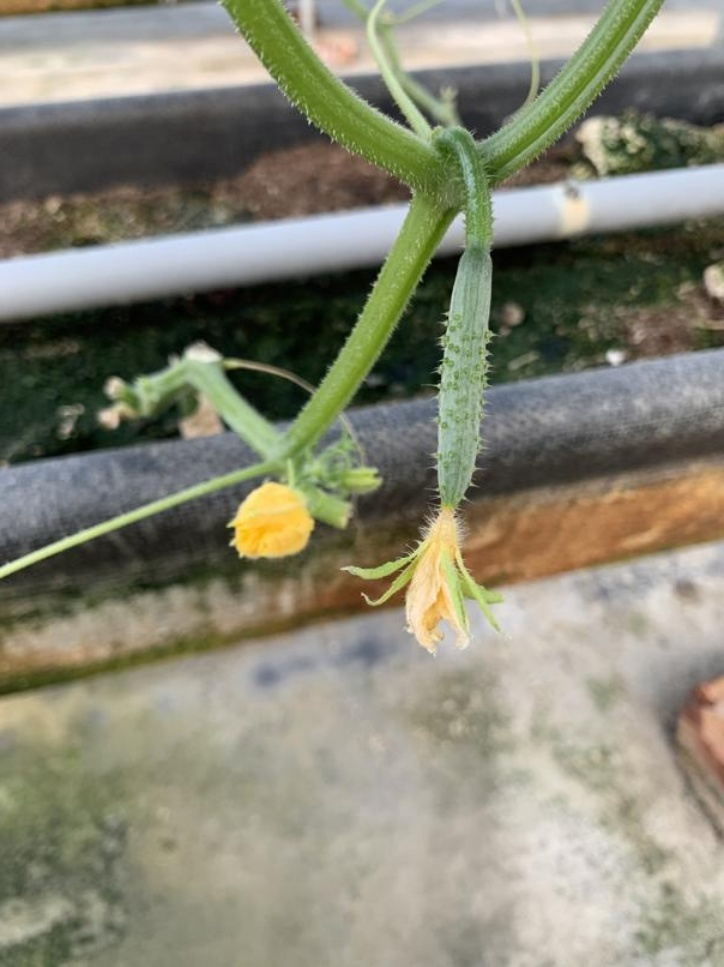bear: (353, 238, 523, 661)
bud: (224, 463, 314, 572)
